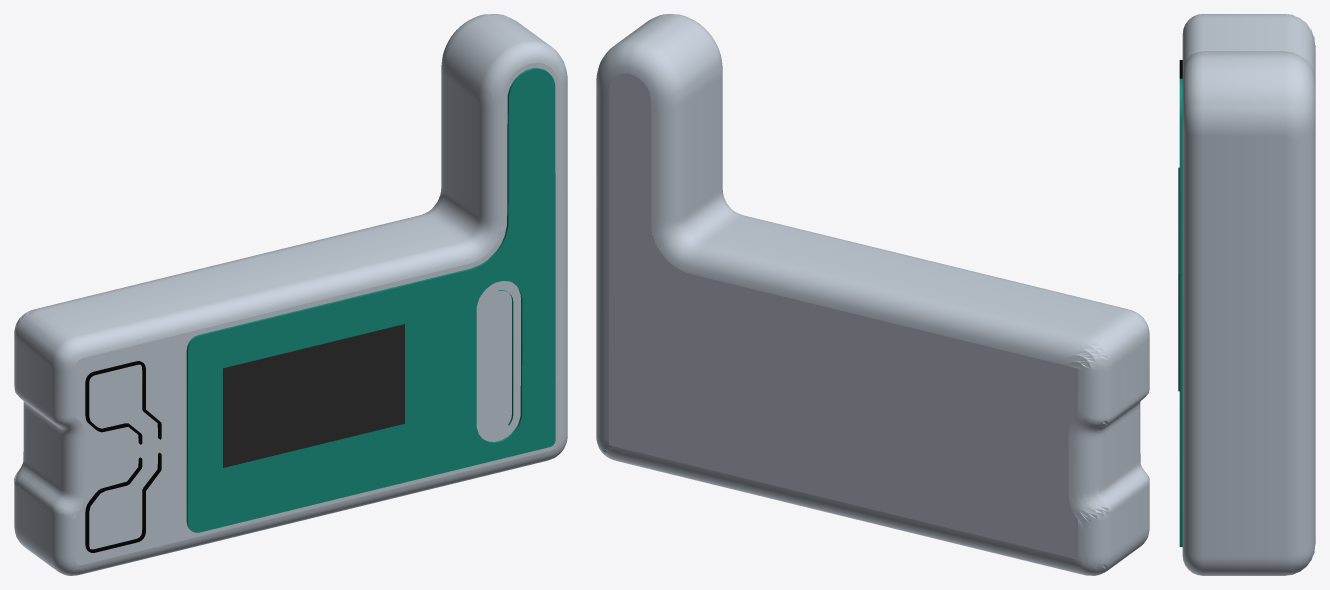
Rendered from heltec-v3-case.glb.
The picture shows the model from 3 angles, left to right: view 1: azimuth 30°, elevation 25°; view 2: azimuth 150°, elevation 25°; view 3: azimuth 270°, elevation 25°; orthographic projection. The views are drawn at different scales.
Parts seen in each view (by area): view 1: Body, Face_17907f, Screen, Face_050606; view 2: Body; view 3: Body, Face_17907f, Screen.
Part boxes in pixels (x1=…): Body: x1=14, y1=14, x2=567, y2=575; Face_17907f: x1=186, y1=68, x2=555, y2=532; Screen: x1=223, y1=324, x2=404, y2=467; Face_050606: x1=85, y1=361, x2=161, y2=552; Body: x1=596, y1=14, x2=1149, y2=575; Body: x1=1182, y1=14, x2=1315, y2=575; Face_17907f: x1=1179, y1=78, x2=1182, y2=546; Screen: x1=1178, y1=167, x2=1179, y2=391.
Bounding box in the file's own units: 0.069 × 0.0543 × 0.0134.
